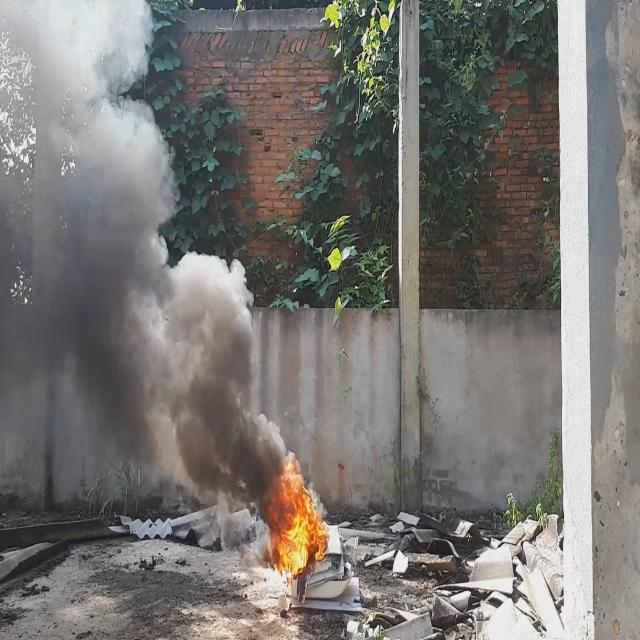Fire: (270, 470, 330, 578)
Smoke: (0, 0, 290, 518)
